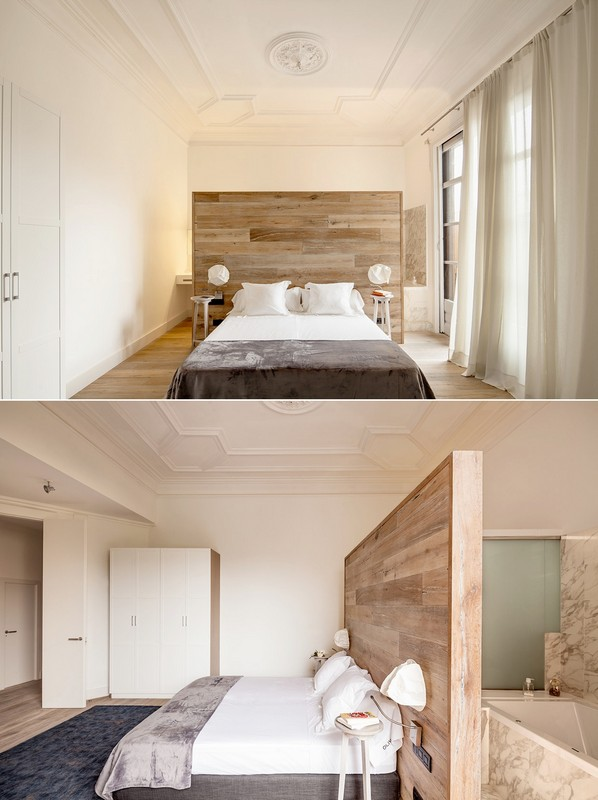bed: (103, 663, 403, 791), (178, 279, 428, 402)
stool: (332, 707, 384, 800), (186, 286, 215, 351), (369, 288, 396, 345)
